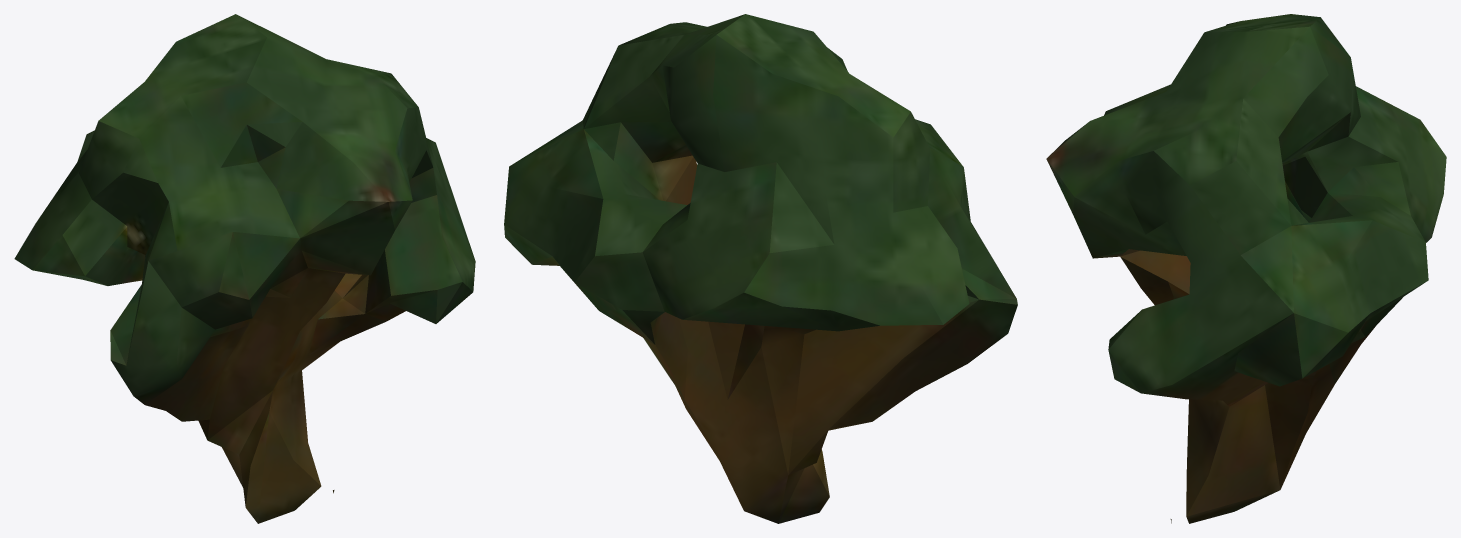
File: bg_forest_leaf_4_lod1.glb
3 renders of one model, left to right at view 1: azimuth 30°, elevation 25°; view 2: azimuth 150°, elevation 25°; view 3: azimuth 270°, elevation 25°, orthographic. The views are drawn at different scales.
Visible parts, largest first — view 1: sway, body; view 2: sway, body; view 3: sway, body.
Part boxes in pixels (left/top/right/bottom): sway: left=14, top=14, right=475, bottom=404; body: left=135, top=255, right=405, bottom=523; sway: left=504, top=14, right=1017, bottom=363; body: left=643, top=145, right=978, bottom=523; sway: left=1046, top=14, right=1446, bottom=399; body: left=1120, top=249, right=1375, bottom=523.
Bounding box in the file's own units: 6.34 × 6.84 × 4.98.
Materials: 1 (1 with a texture image).
